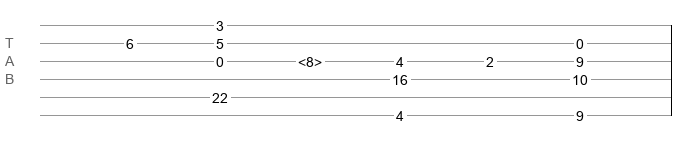0: (216, 54, 224, 64), (576, 36, 584, 46)
10: (572, 72, 588, 82)
16: (392, 72, 408, 82)
2: (486, 54, 494, 64)
22: (212, 90, 228, 100)
3: (216, 18, 224, 28)
4: (396, 108, 404, 118), (396, 54, 404, 64)
5: (216, 36, 224, 46)
6: (126, 36, 134, 46)
9: (576, 108, 584, 118), (576, 54, 584, 64)
harmonic: (298, 54, 322, 64)
